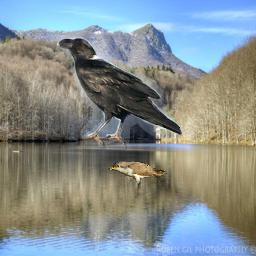Crow: (57, 36, 182, 150)
Cuckoo: (108, 161, 167, 189)
